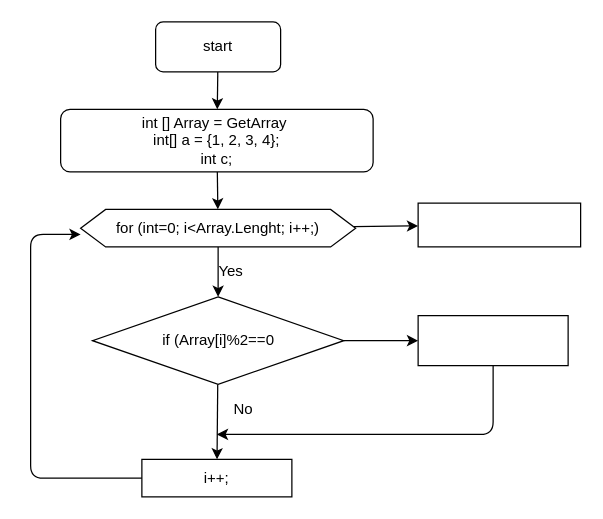
The diagram is 603 pixels wide and 519 high, and some of its shapes have lost their labels. The shapes that lost their labels are listed below. From the top down, each one's box as (x1, y1, x2, y2) in pixels, then its label:
(417, 202, 581, 247): return EvenIntegers, c
(417, 314, 568, 366): int c = Array[i]; c++;
